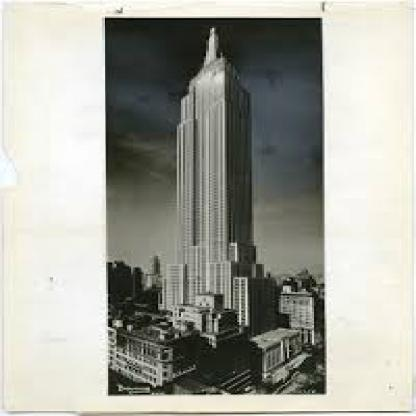Empire-State-building: (155, 18, 280, 318)
